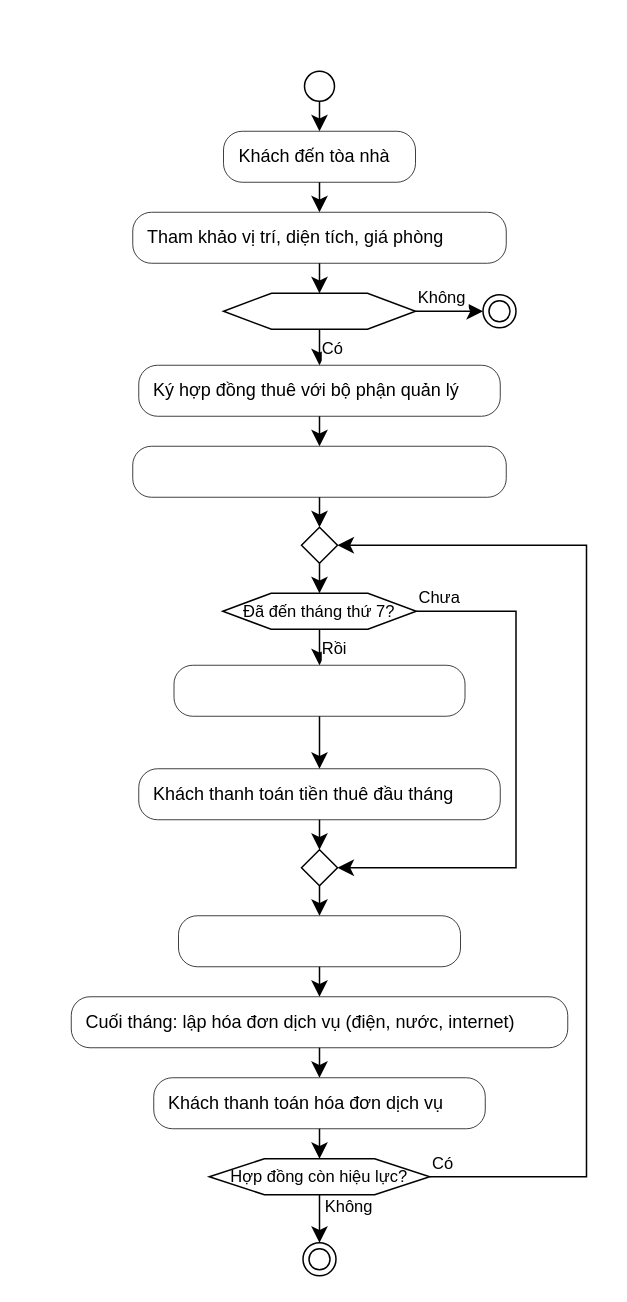
Some shapes in this 627 by 1302 pixel diagram are drawn without their labels. The shapes that lost their labels are listed below. From the top down, each one's centre as x and y in pixels, then its label:
the point at 319,310: Khách đồng ý thuê?
the point at 319,471: Thanh toán trước tiền thuê 6 tháng đầu
the point at 319,690: Lập phiếu thu tiền thuê tháng
the point at 318,940: Sử dụng dịch vụ trong tháng
